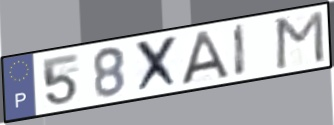5: (40, 51, 82, 108)
8: (91, 45, 126, 99)
A: (180, 28, 231, 87)
I: (232, 22, 248, 79)
M: (274, 9, 327, 72)
X: (134, 32, 182, 96)
